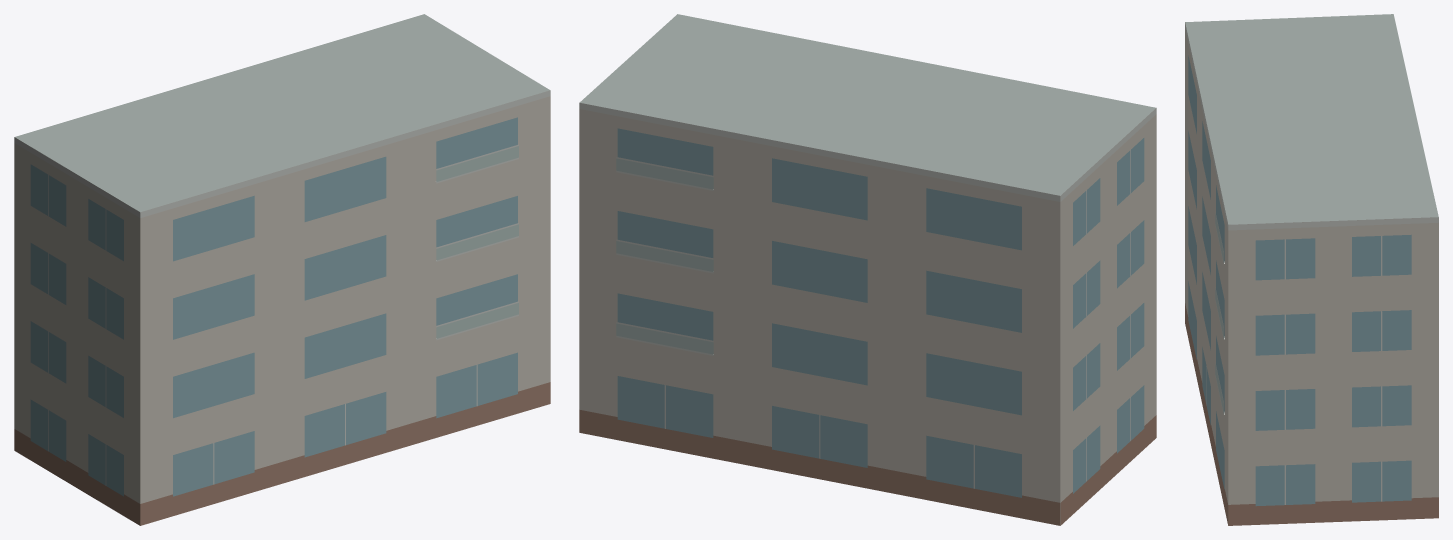
File: survey-upis-32600388.glb
3 views of the same model, side by side, from view 1: azimuth 30°, elevation 25°; view 2: azimuth 150°, elevation 25°; view 3: azimuth 270°, elevation 25° (orthographic). The views are drawn at different scales.
Parts seen in each view (by area): view 1: survey-upis-32600388.tmp; view 2: survey-upis-32600388.tmp; view 3: survey-upis-32600388.tmp.
Boxes of the visible parts, bbox=[...] form: survey-upis-32600388.tmp: bbox=[14, 14, 550, 525]; survey-upis-32600388.tmp: bbox=[579, 14, 1156, 525]; survey-upis-32600388.tmp: bbox=[1185, 14, 1438, 525].
Bounding box in the file's own units: 19.53 × 13 × 9.94.
